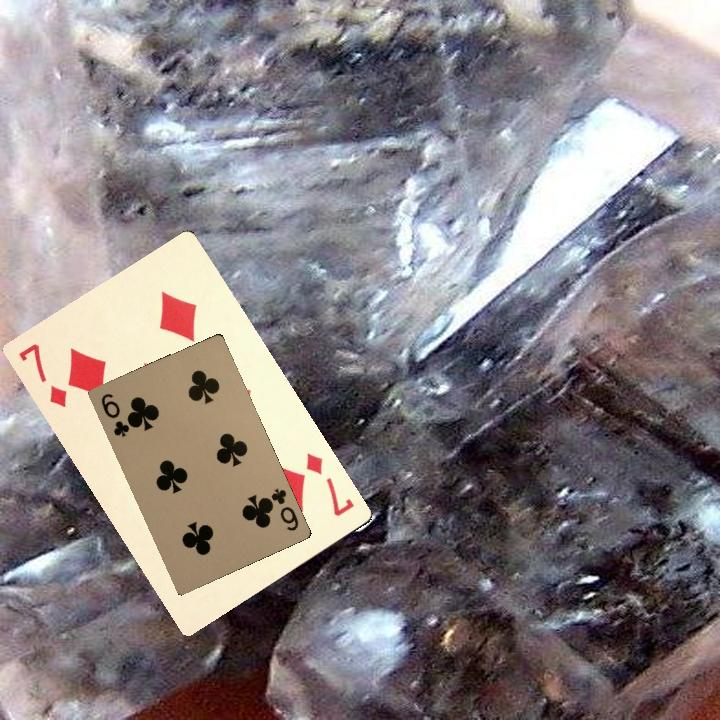6c: (263, 484, 301, 534), (97, 389, 132, 439)
7d: (14, 339, 70, 410), (301, 449, 357, 519)
